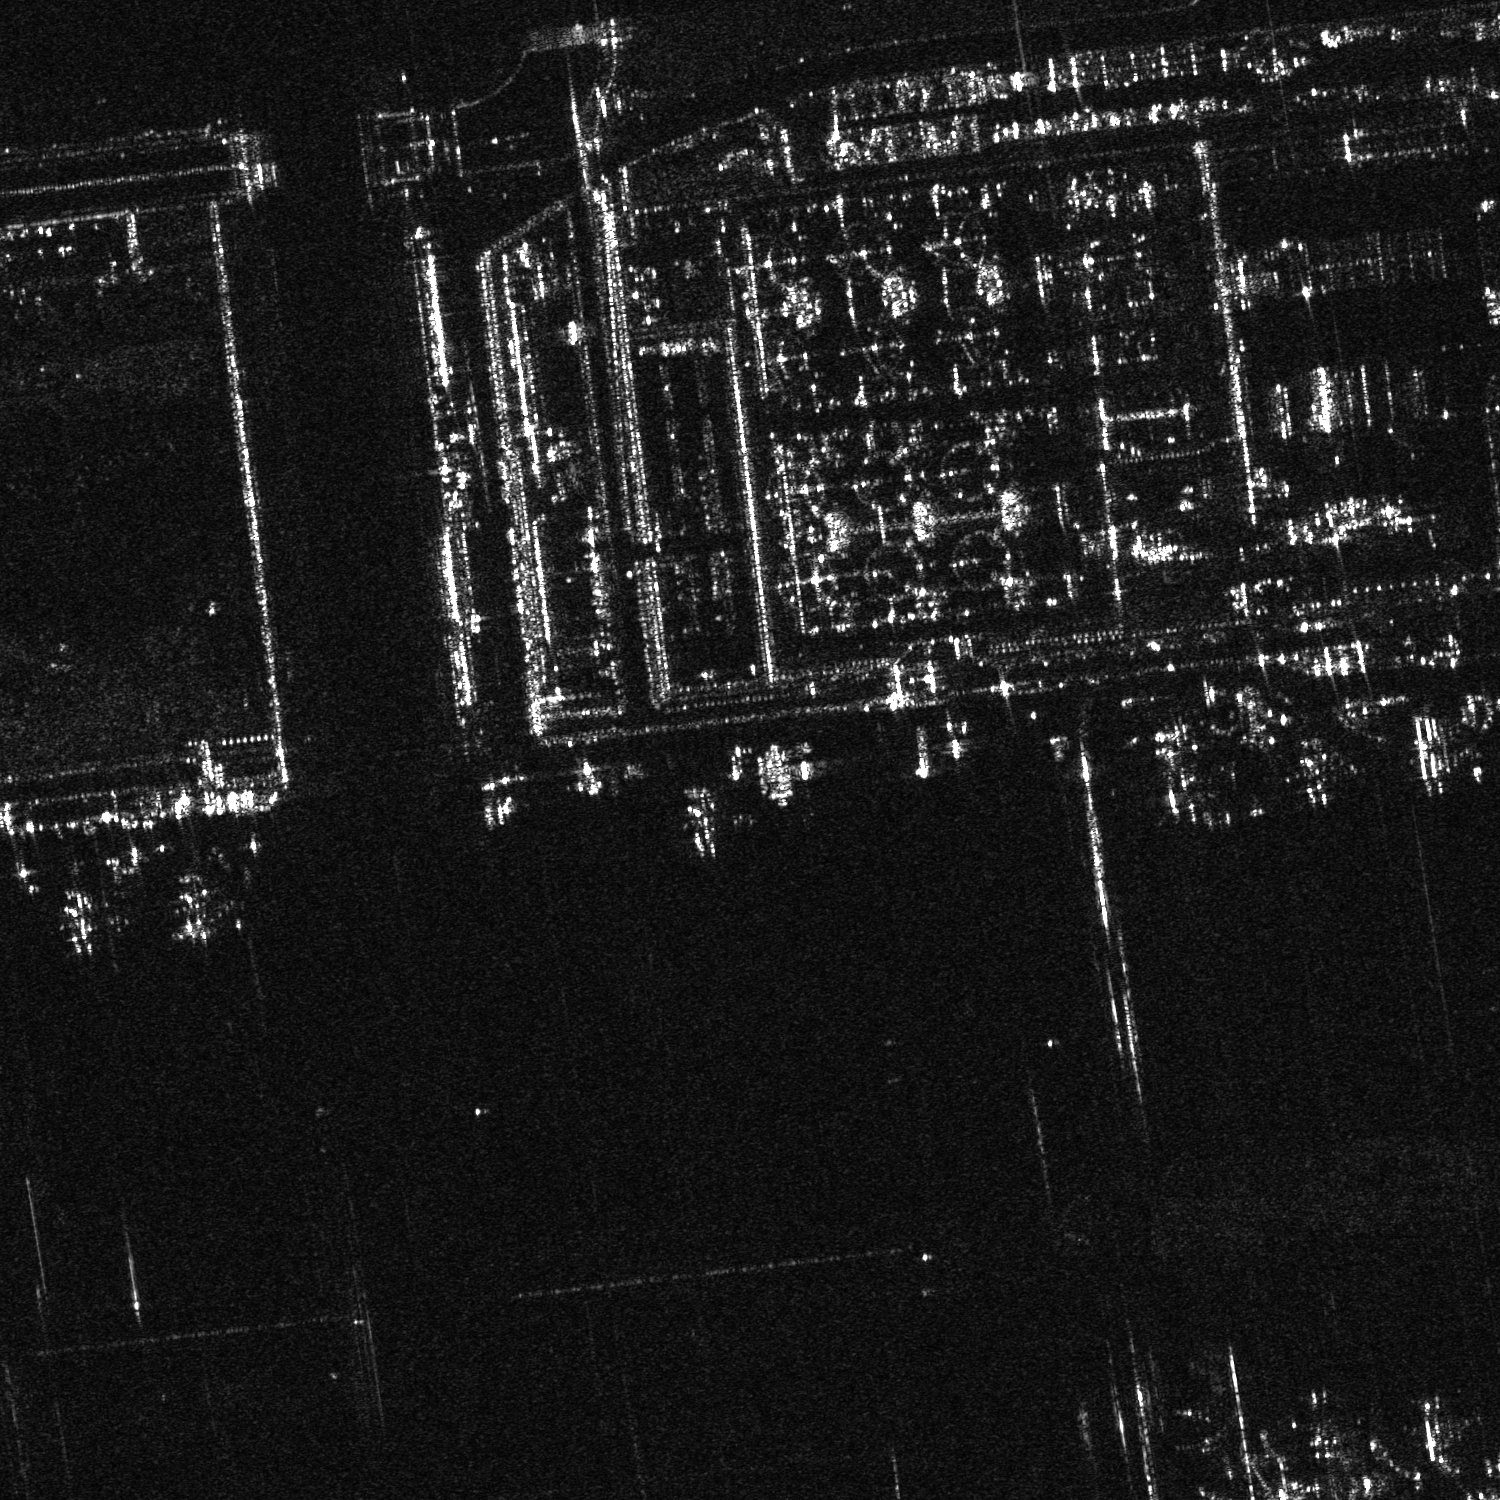A220: (1290, 1386, 1361, 1460), (1396, 1393, 1468, 1462)
Boeing787: (661, 782, 745, 859), (1277, 732, 1359, 810), (45, 882, 114, 955), (168, 874, 227, 944)
